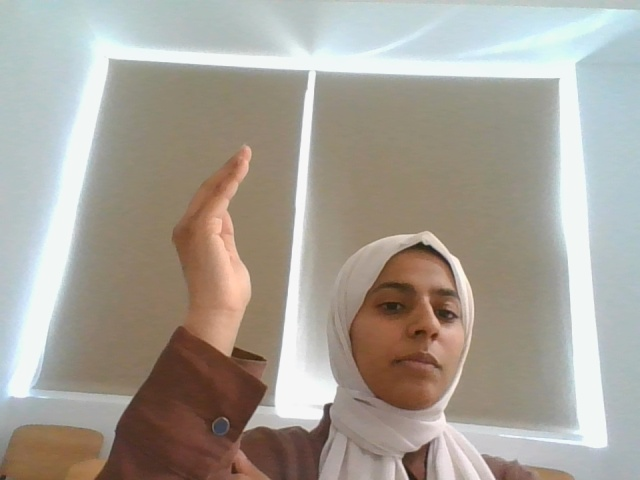morning: (116, 124, 315, 480)
